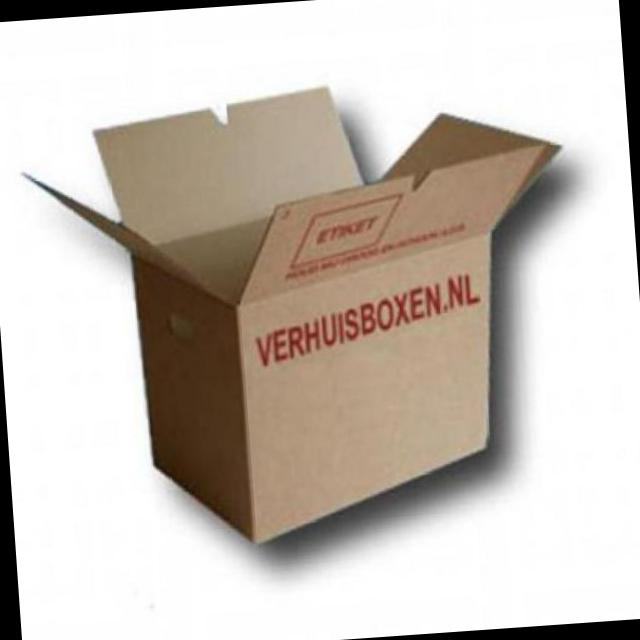box: (11, 63, 592, 566)
